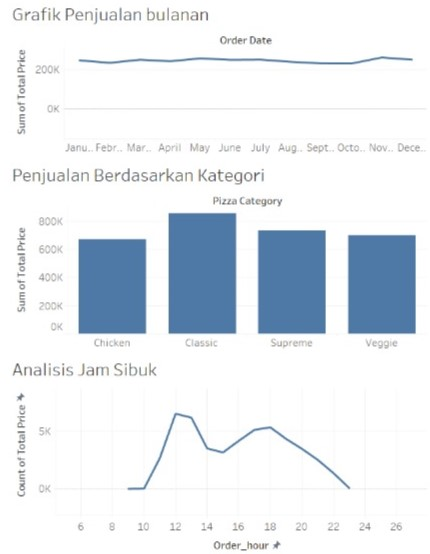

This screenshot's page, from the dashboard's own definition file:
{"tool":"tableau","page":{"name":"Dashboard 1","canvas":[650,860],"ordinal":0},"visuals":[{"type":"worksheet","title":"Sheet 1","mark":"Automatic","rows":["total_price"],"cols":["order_date"],"box":[8,8.6,634,258.4]},{"type":"worksheet","title":"Sheet 3","mark":"Automatic","rows":["total_price"],"cols":["pizza_category"],"box":[8,267,634,282.5]},{"type":"worksheet","title":"Sheet 2","mark":"Automatic","rows":["total_price"],"cols":["Calculation_45880435608195072"],"box":[8,549.6,634,301.9]}]}

Visuals, with their boxes in screenshot pixels (x1, y1, x2, y2), scaled from the page's 650x860 canvas onto the 430x554 screenshot:
"Sheet 1" worksheet: 5 6 425 172
"Sheet 3" worksheet: 5 172 425 354
"Sheet 2" worksheet: 5 354 425 549
